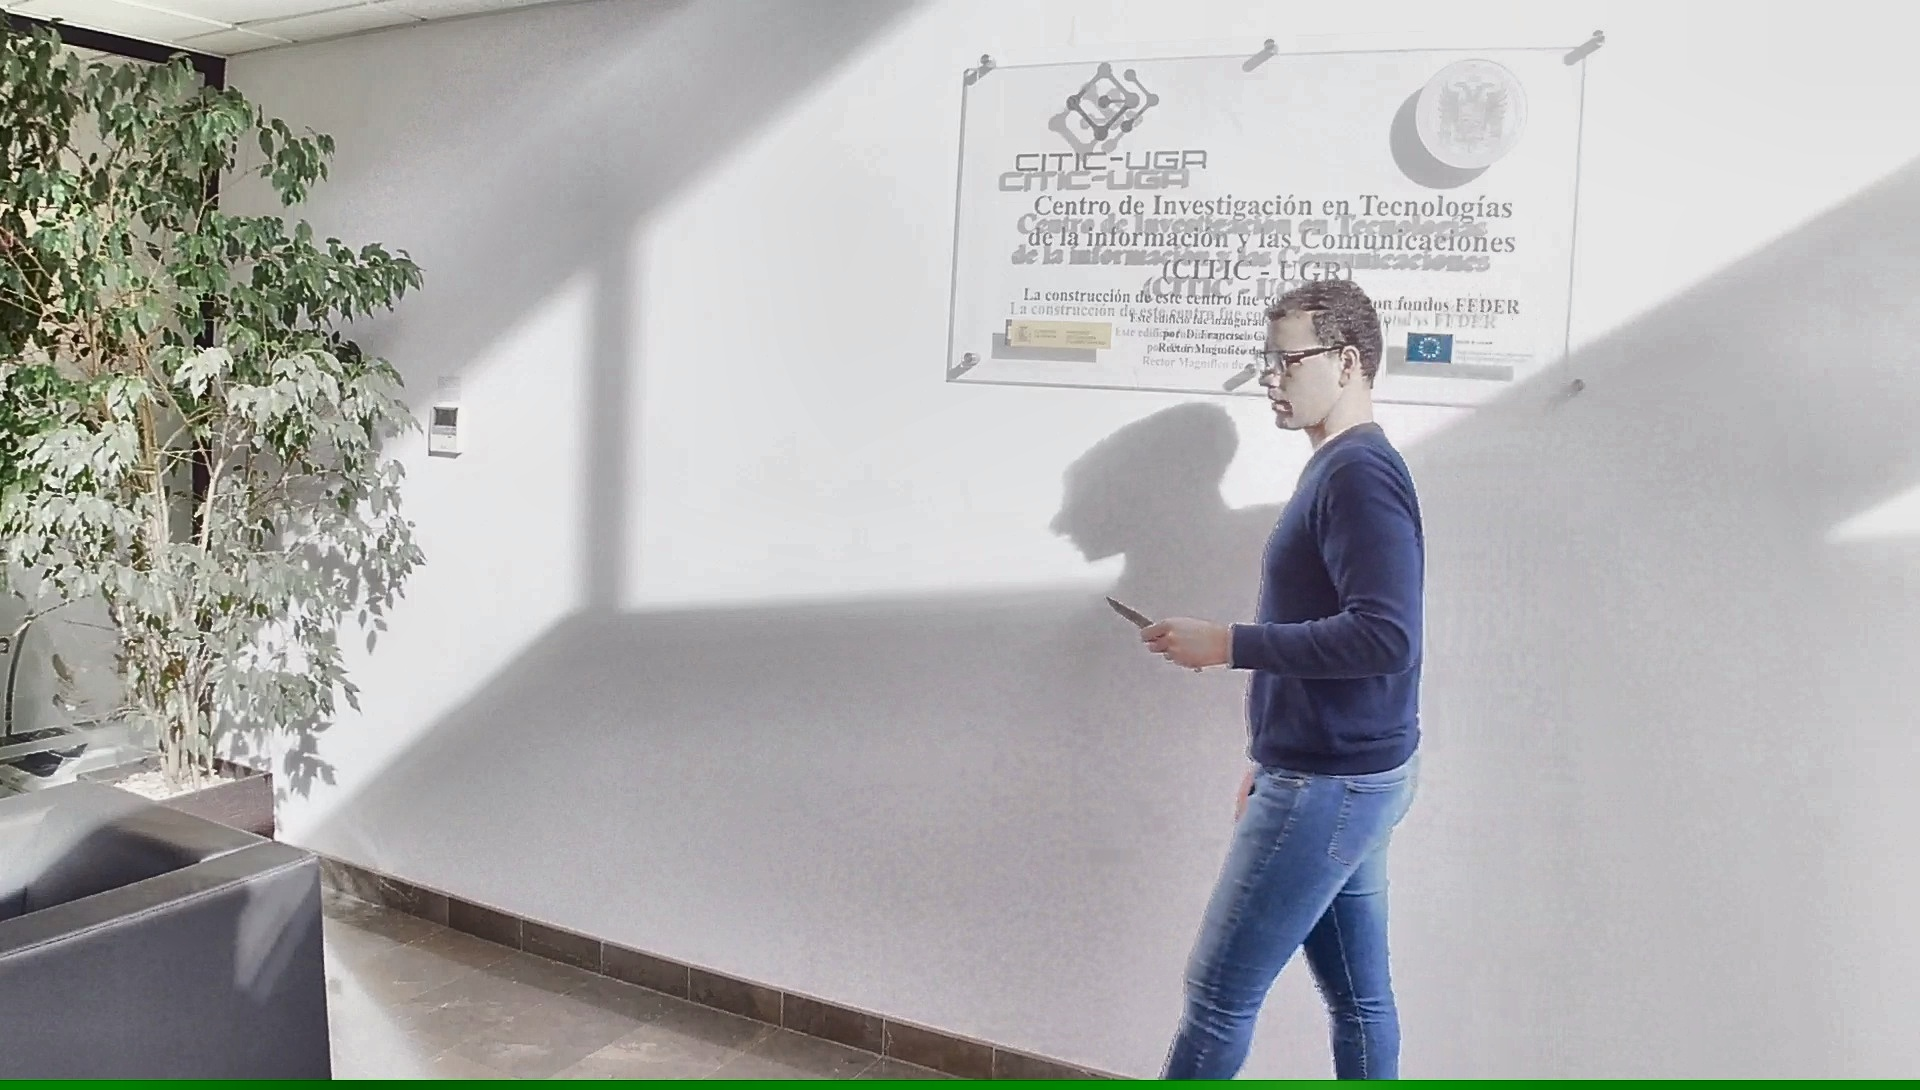knife: (1098, 589, 1208, 677)
